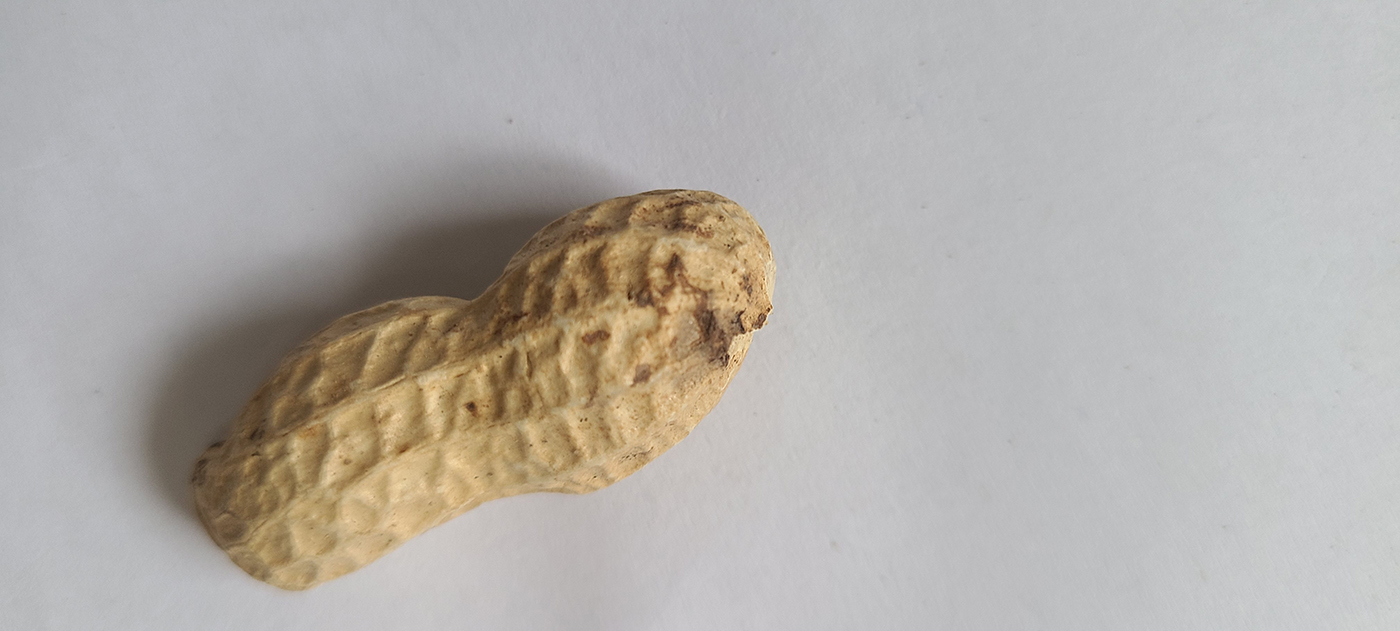h: (191, 189, 778, 594)
